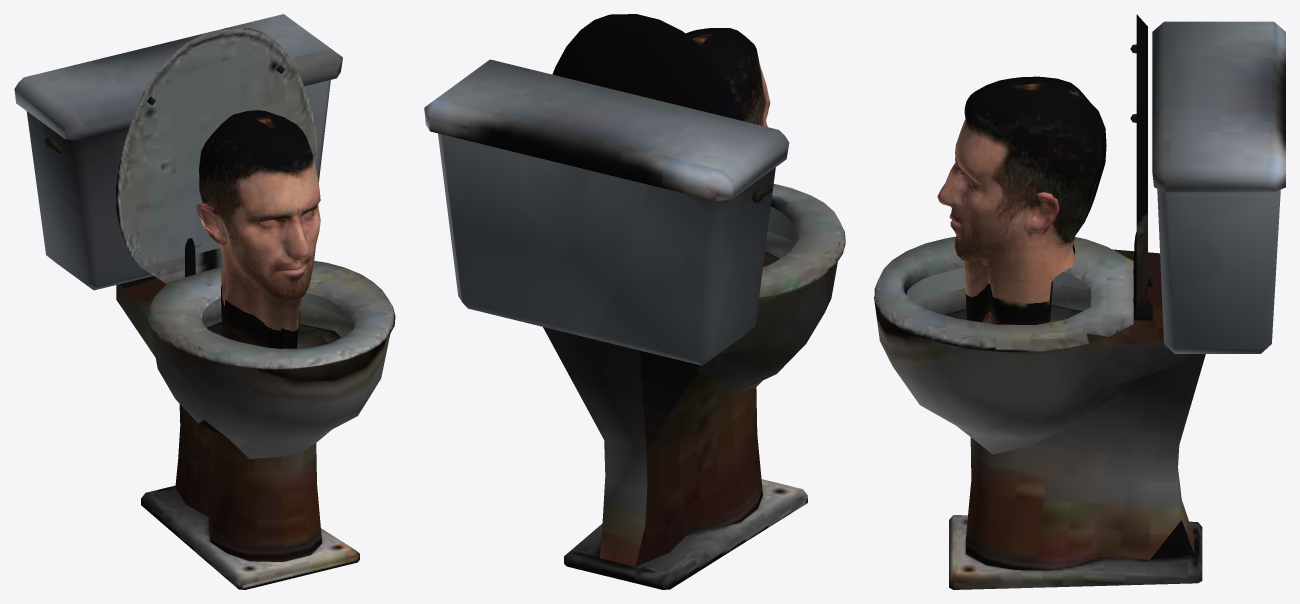
The model's file is toilet.fbx.
3 views of the same model, side by side, from view 1: azimuth 30°, elevation 25°; view 2: azimuth 150°, elevation 25°; view 3: azimuth 270°, elevation 25° (orthographic). The views are drawn at different scales.
Parts seen in each view (by area): view 1: toilet; view 2: toilet; view 3: toilet.
Part boxes in pixels (<box>): toilet: <box>14,14,395,589</box>; toilet: <box>424,14,845,589</box>; toilet: <box>874,14,1285,589</box>.
Size of the model in its own units: 57.41 by 95.2 by 66.72.
